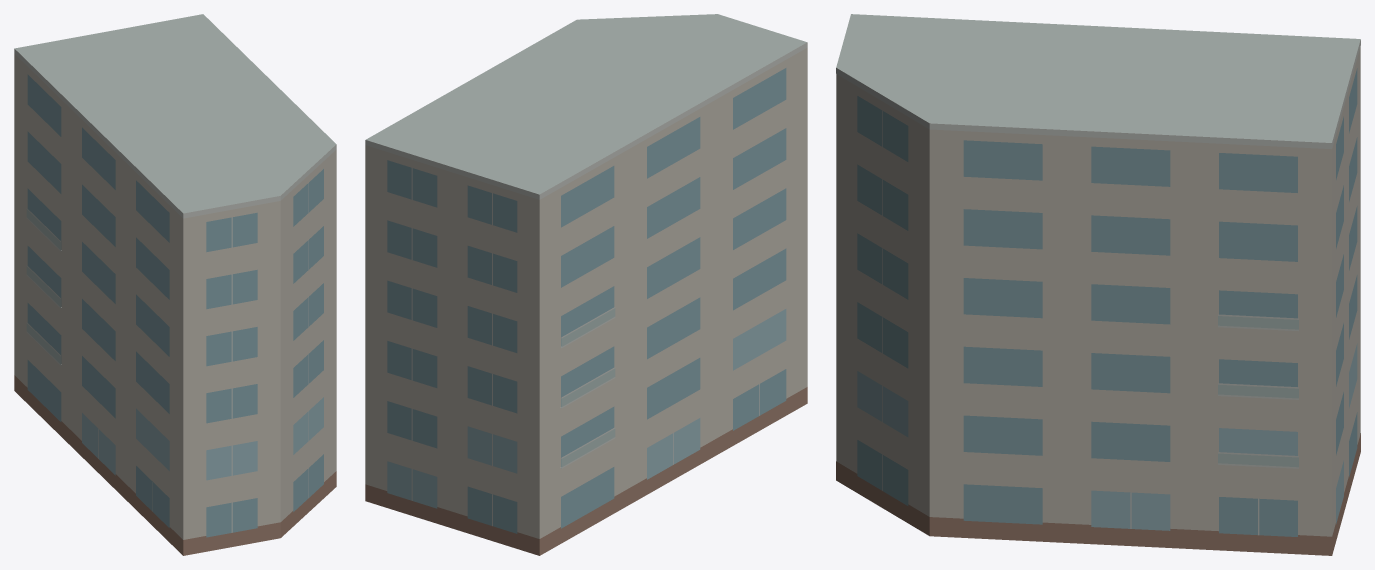
File: survey-upis-32872113.glb
3 views of the same model, side by side, from view 1: azimuth 30°, elevation 25°; view 2: azimuth 150°, elevation 25°; view 3: azimuth 270°, elevation 25° (orthographic). The views are drawn at different scales.
Visible parts, largest first — view 1: survey-upis-32872113.tmp; view 2: survey-upis-32872113.tmp; view 3: survey-upis-32872113.tmp.
Boxes of the visible parts, bbox=[...] form: survey-upis-32872113.tmp: bbox=[14, 14, 336, 555]; survey-upis-32872113.tmp: bbox=[365, 14, 807, 555]; survey-upis-32872113.tmp: bbox=[836, 14, 1360, 555].
Size of the model in its own units: 11.14 by 16.6 by 19.13.
